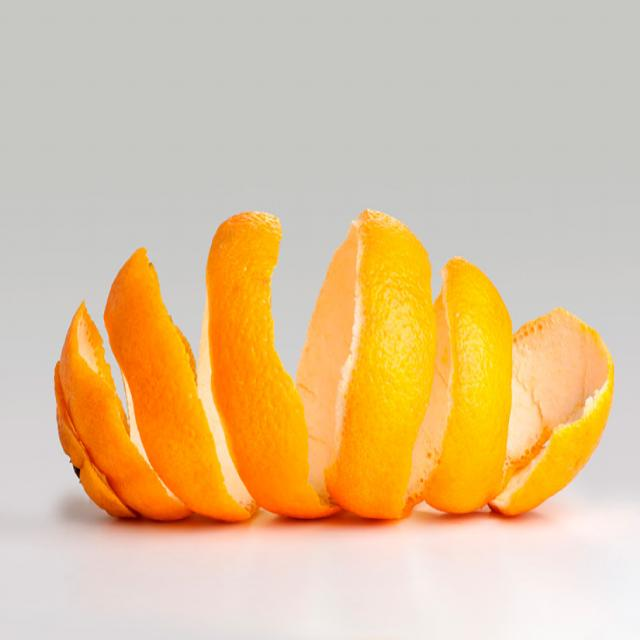Cascara de naranja: (122, 261, 522, 506)
